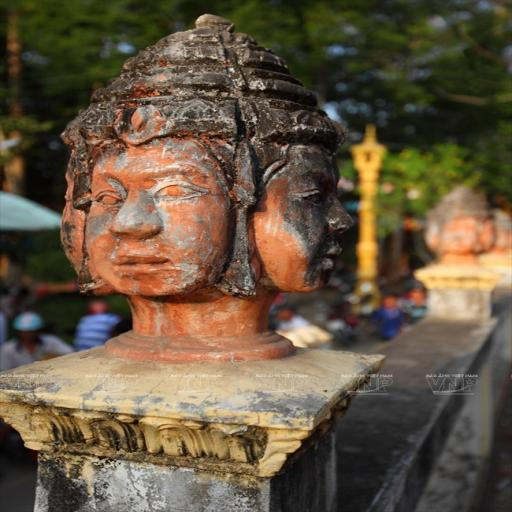than: (59, 27, 357, 363), (418, 182, 491, 268)
